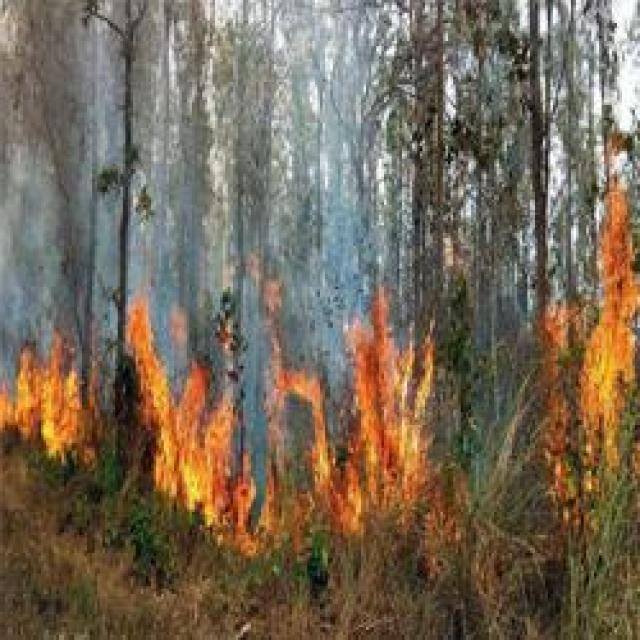fire: (1, 347, 91, 443), (160, 430, 215, 496), (588, 324, 636, 394)
smoke: (0, 186, 41, 342), (126, 200, 166, 290)
